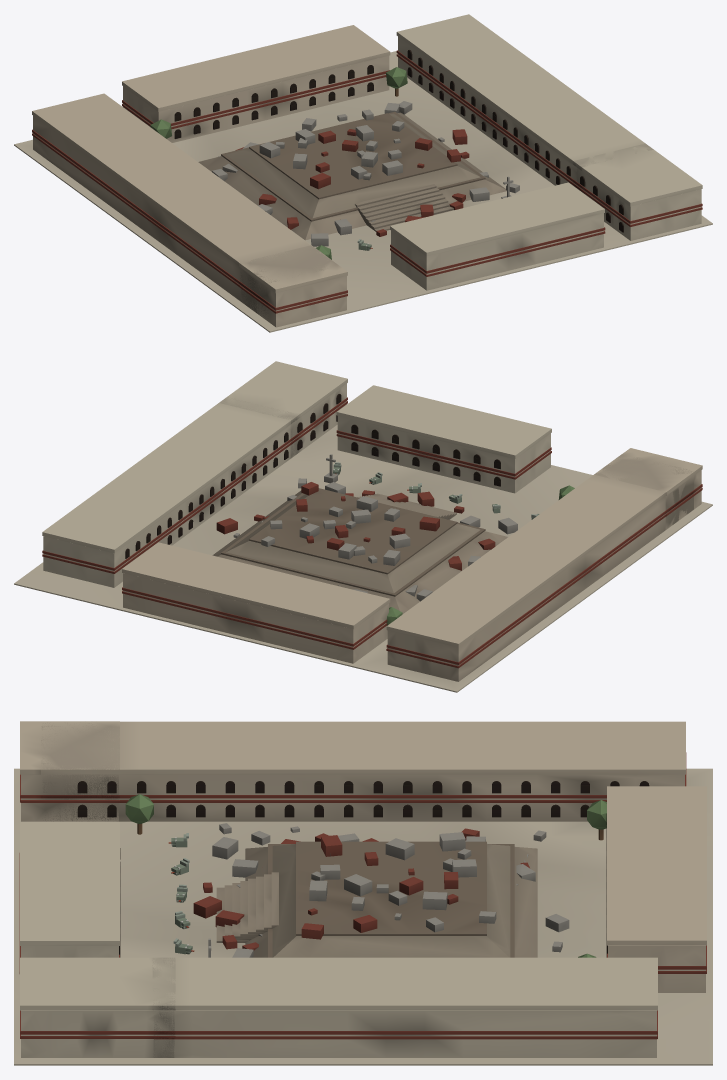
The model's file is templo-mayor-1620.glb.
3 views of the same model, one above another, from view 1: azimuth 30°, elevation 25°; view 2: azimuth 150°, elevation 25°; view 3: azimuth 270°, elevation 25° (orthographic). The views are drawn at different scales.
Parts seen in each view (by area): view 1: p2_houses, p0_ruin, p1_rubble; view 2: p2_houses, p0_ruin, p1_rubble; view 3: p2_houses, p0_ruin, p1_rubble.
Boxes of the visible parts, x1,y1,x2,y2 form: p2_houses: (32, 14, 702, 327); p0_ruin: (14, 51, 712, 332); p1_rubble: (212, 101, 519, 250); p2_houses: (42, 361, 702, 681); p0_ruin: (14, 425, 712, 692); p1_rubble: (216, 462, 539, 601); p2_houses: (19, 721, 706, 1057); p0_ruin: (14, 768, 712, 1065); p1_rubble: (168, 823, 569, 957).
Bounding box in the file's own units: 100 × 8.59 × 100.
